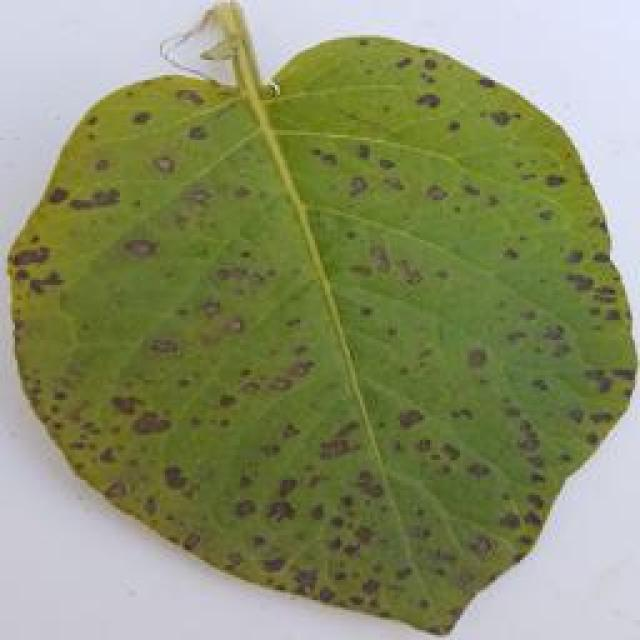Potato_Early_Blight: (4, 6, 635, 634)
